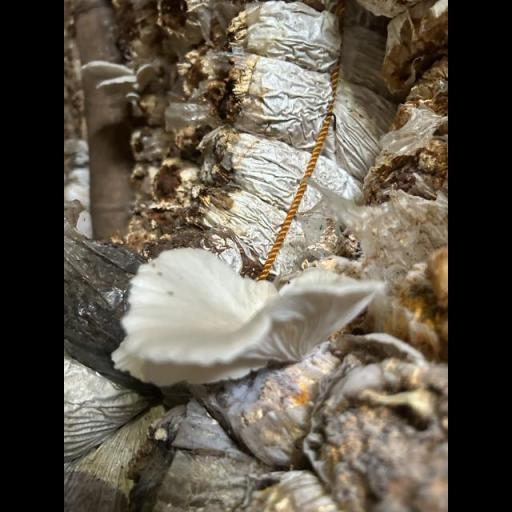White Oyster Mushroom: (115, 245, 391, 392)
